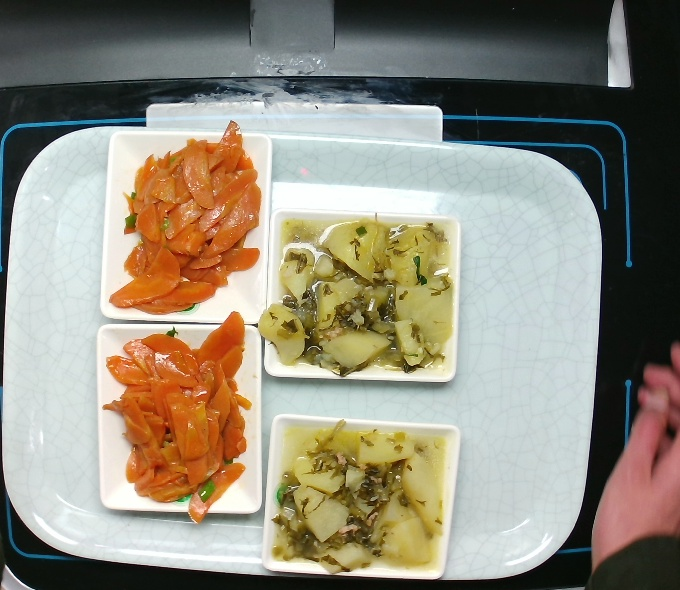wcq-HuLuoBo: (127, 129, 263, 316), (104, 329, 247, 502)
wcq-XueCaiTuDou: (265, 216, 447, 373), (274, 427, 444, 574)
